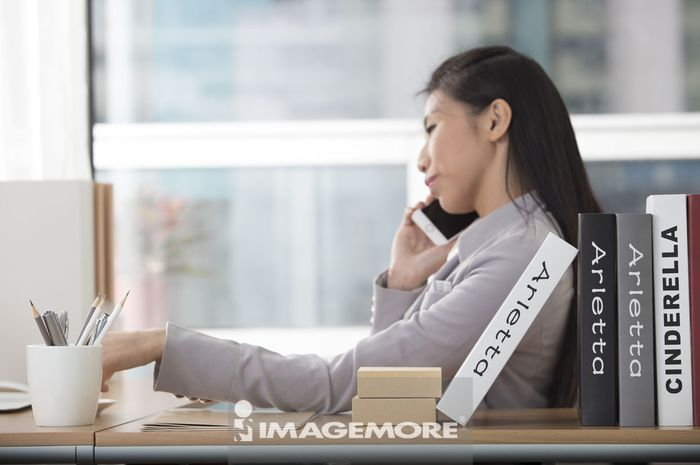talk: (388, 101, 470, 288)
